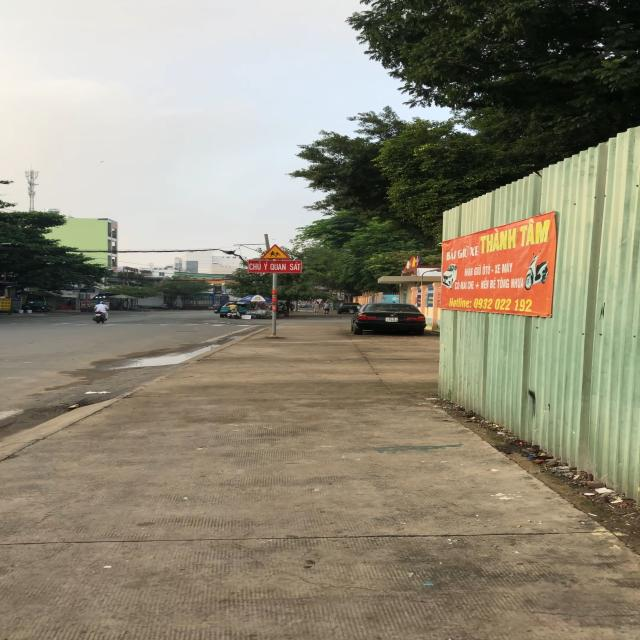Bien bao tre em: (260, 244, 292, 260)
